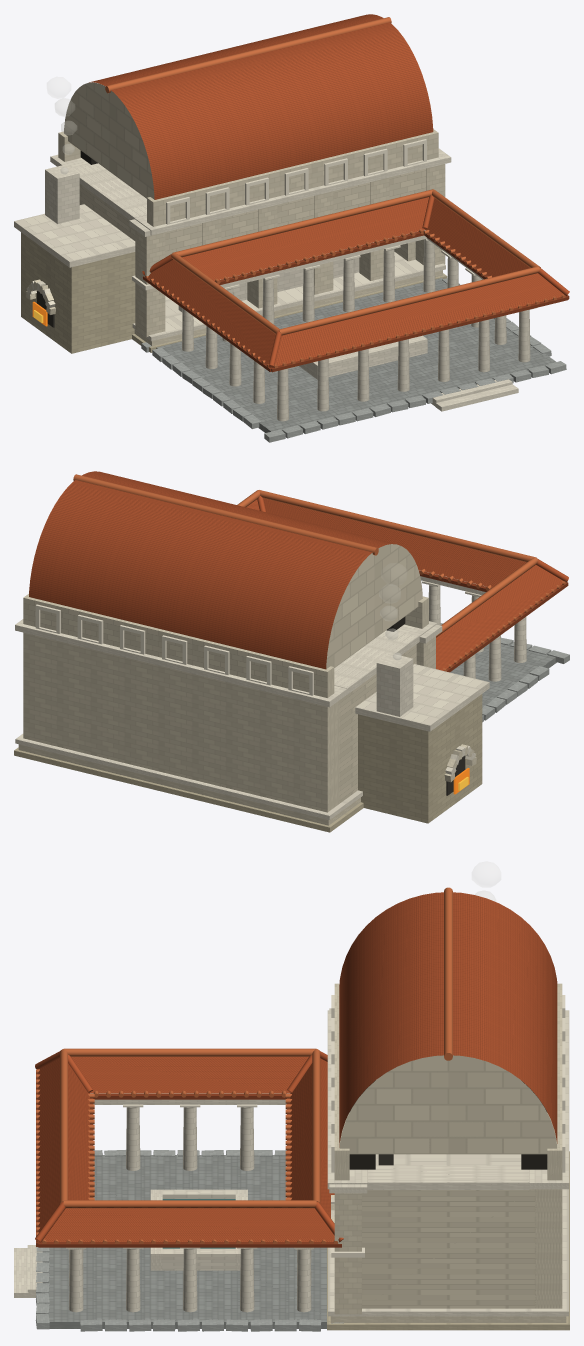
File: civic-classical-baths-built.glb
3 views of the same model, one above another, from view 1: azimuth 30°, elevation 25°; view 2: azimuth 150°, elevation 25°; view 3: azimuth 270°, elevation 25° (orthographic). The views are drawn at different scales.
Size of the model in its own units: 33.73 by 20.44 by 36.6.
41 materials, 27 textured.
